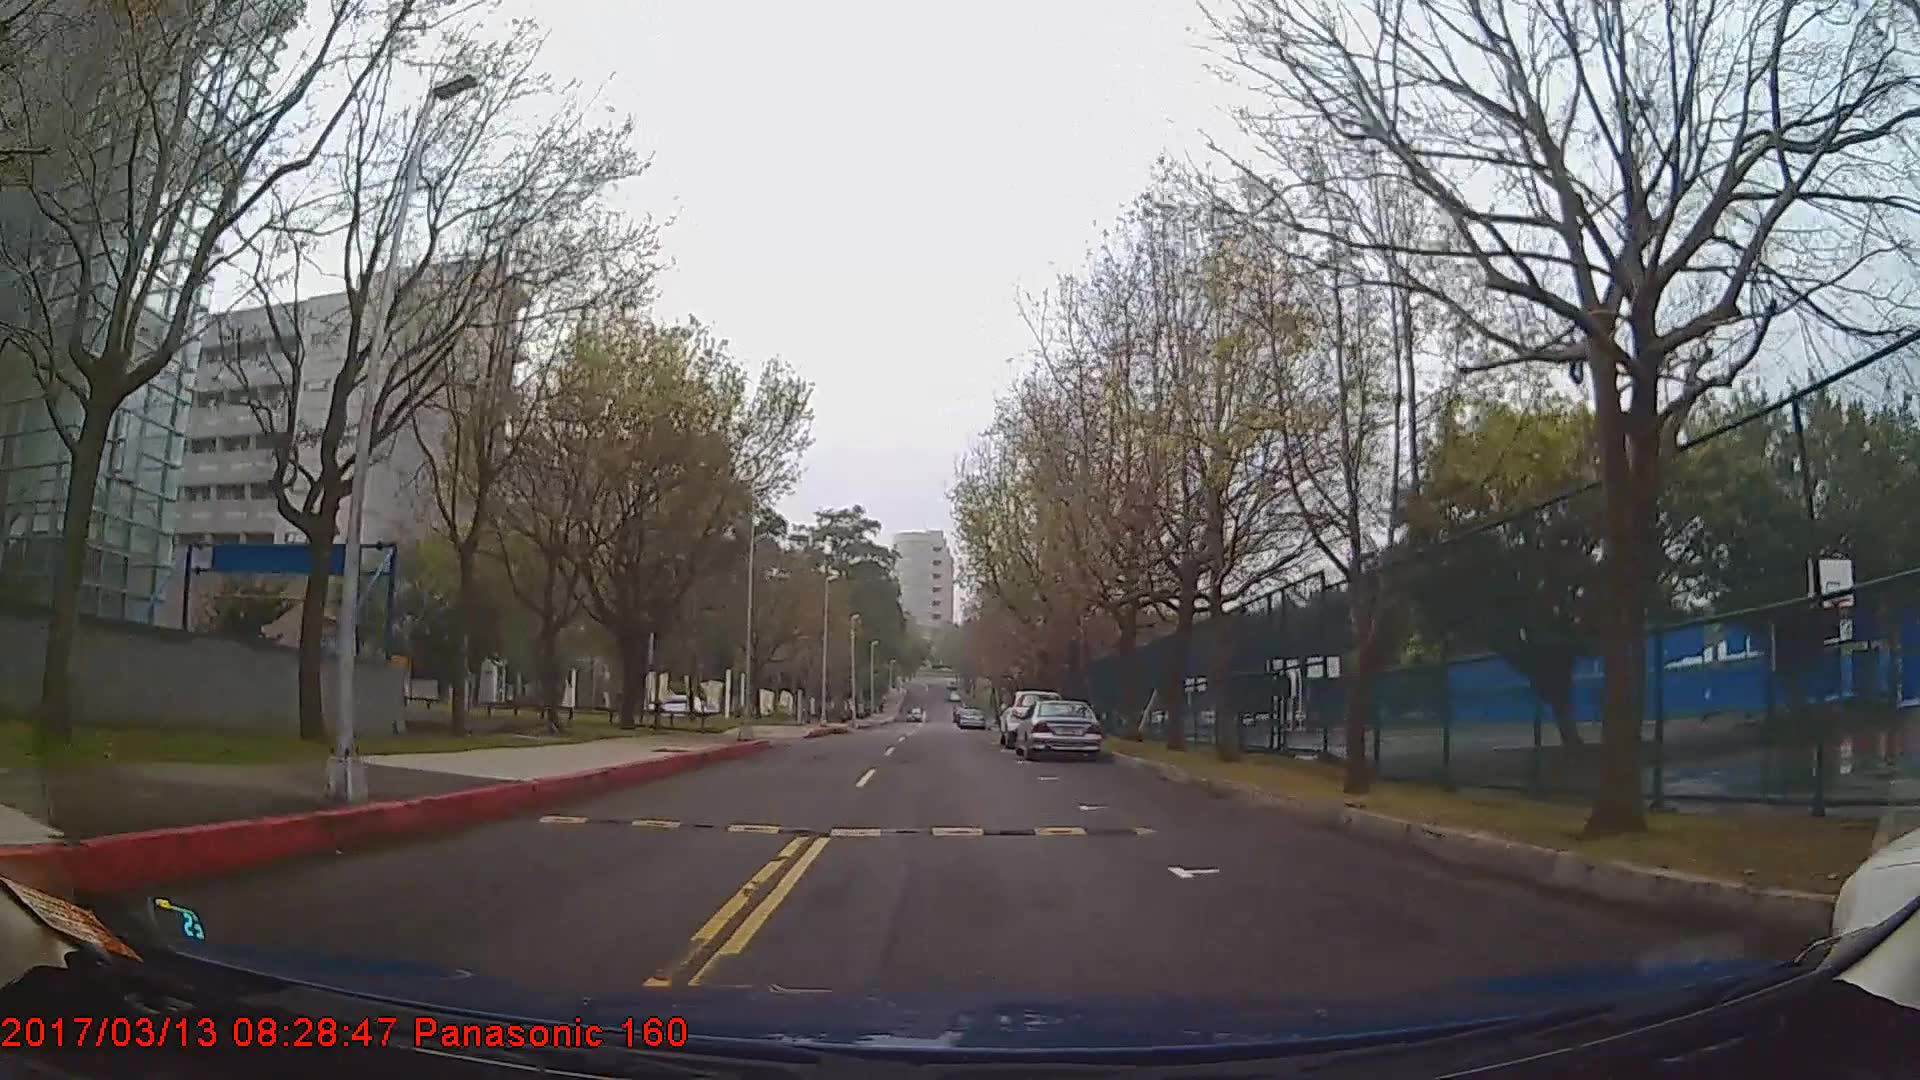vehicle: (1013, 698, 1102, 760), (998, 688, 1063, 749), (953, 705, 989, 731)
